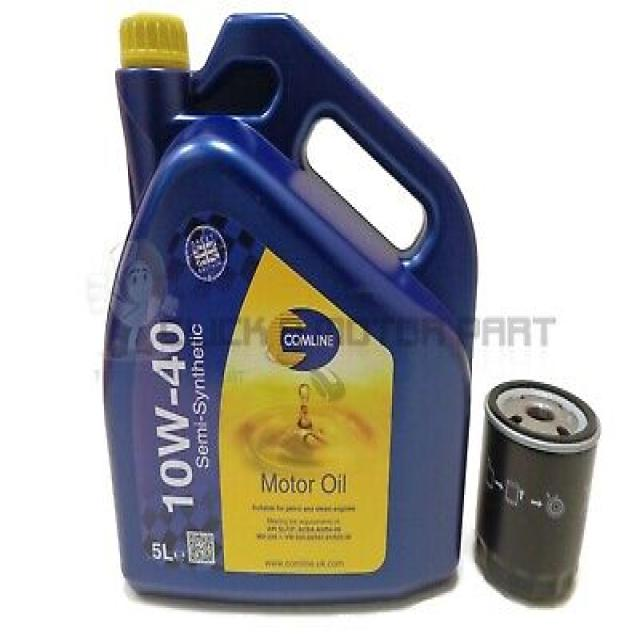motor_oil: (100, 9, 482, 612)
oil_filter: (481, 374, 603, 608)
